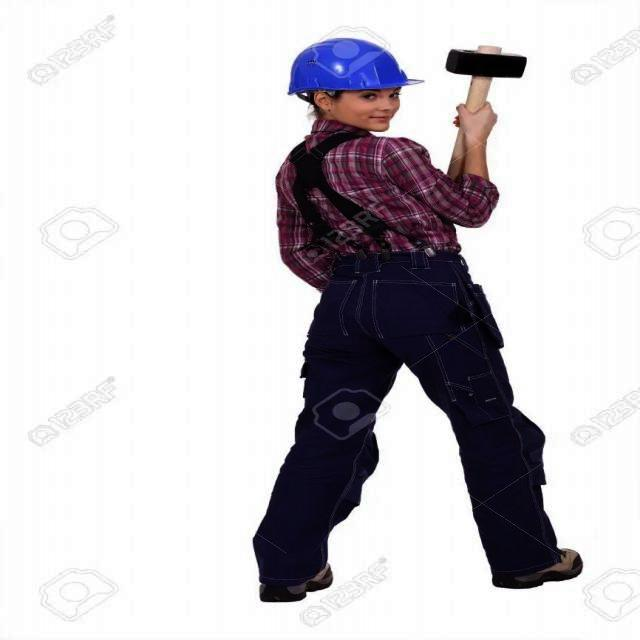hammer: (426, 33, 538, 189)
